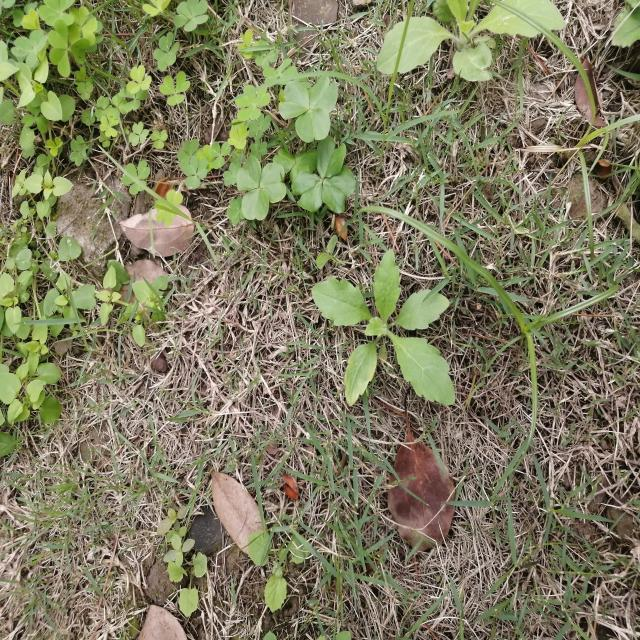horseweed: (290, 248, 460, 423)
